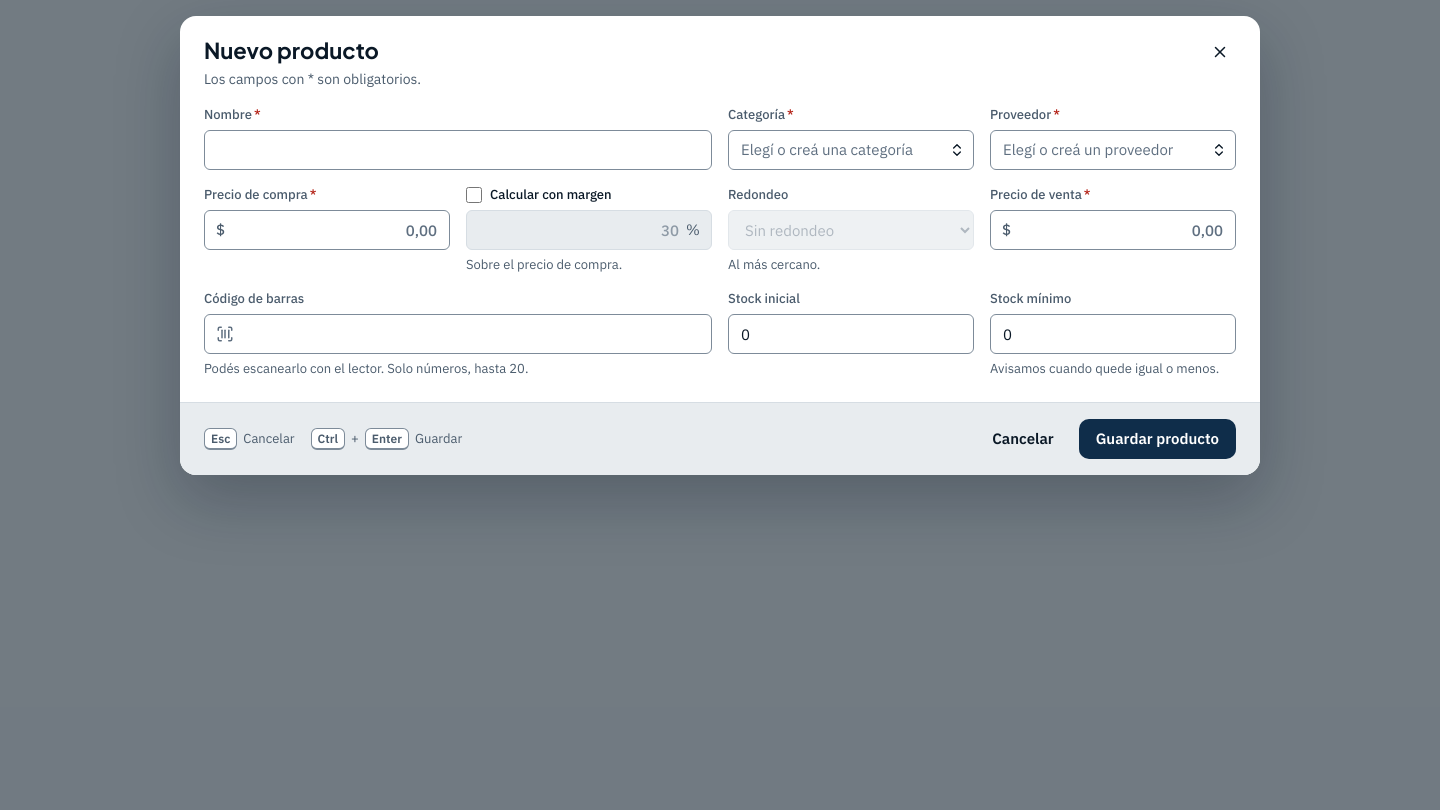
Test: Modo creación (sin product prop) › guardar vacío muestra los 5 errores obligatorios con los copys nuevos y enfoca Nombre
This screenshot has width=1440, height=810.
Click the button "Guardar producto" at (1157, 439), box [1079,419,1236,459]
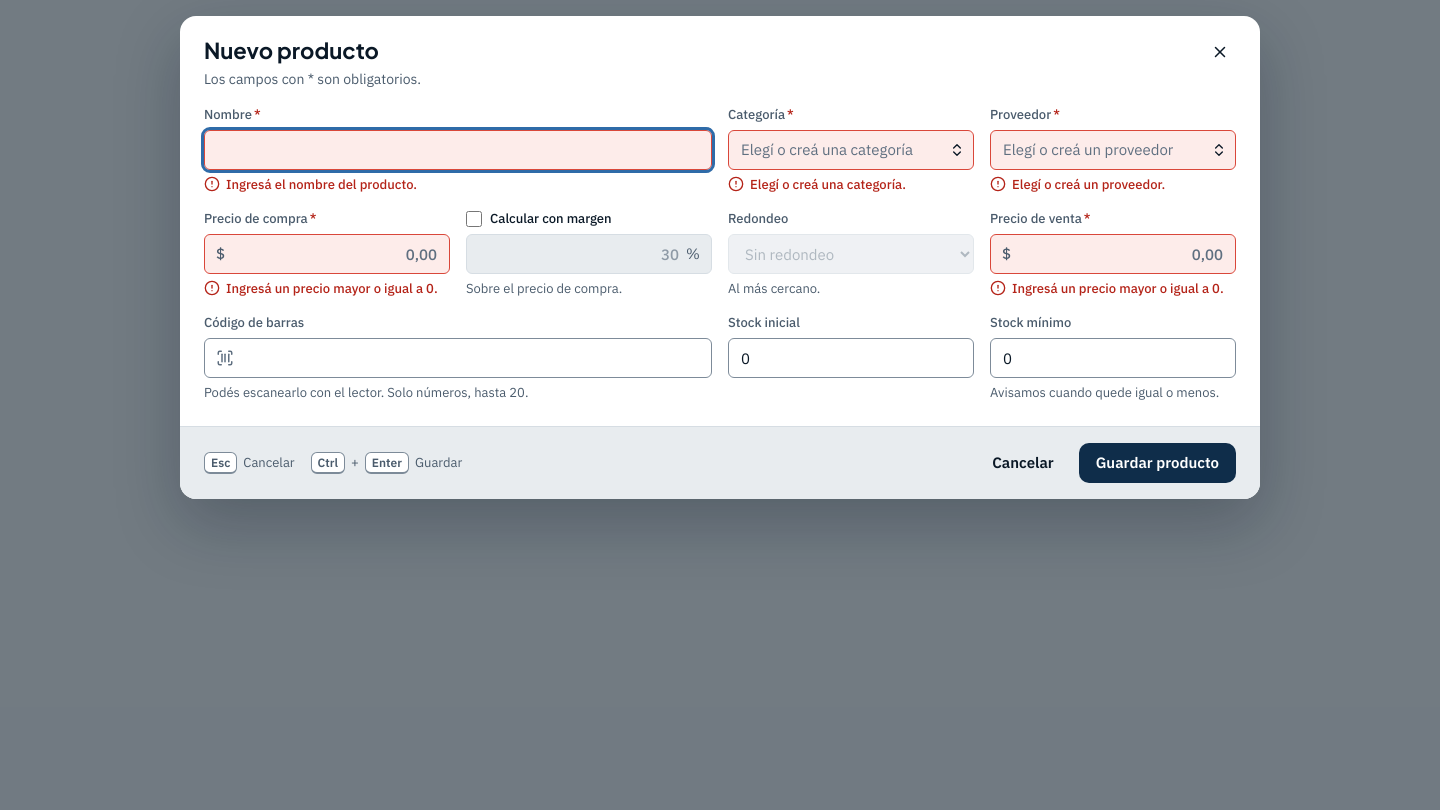
Check: the text "Ingresá el nombre del producto." is shown, box [204,176,417,193]
Check: the text "Elegí o creá una categoría." is shown, box [728,176,906,193]
Check: the text "Elegí o creá un proveedor." is shown, box [990,176,1165,193]
